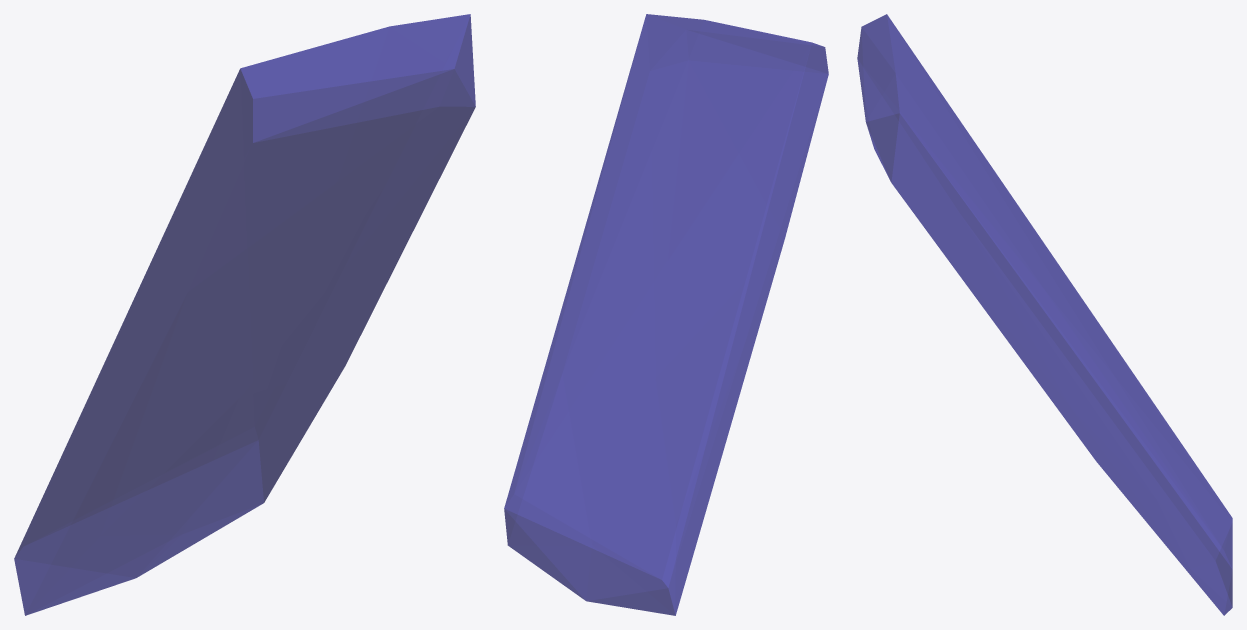
3 renders of one model, left to right at view 1: azimuth 30°, elevation 25°; view 2: azimuth 150°, elevation 25°; view 3: azimuth 270°, elevation 25°, orthographic. The views are drawn at different scales.
Parts seen in each view (by area): view 1: Shape_IndexedFaceSet.013; view 2: Shape_IndexedFaceSet.013; view 3: Shape_IndexedFaceSet.013.
Boxes of the visible parts, x1,y1,x2,y2 form: Shape_IndexedFaceSet.013: (14,14,475,615); Shape_IndexedFaceSet.013: (504,14,828,615); Shape_IndexedFaceSet.013: (857,14,1232,615).
Bounding box in the file's own units: 0.1831 × 0.4999 × 0.3096.
